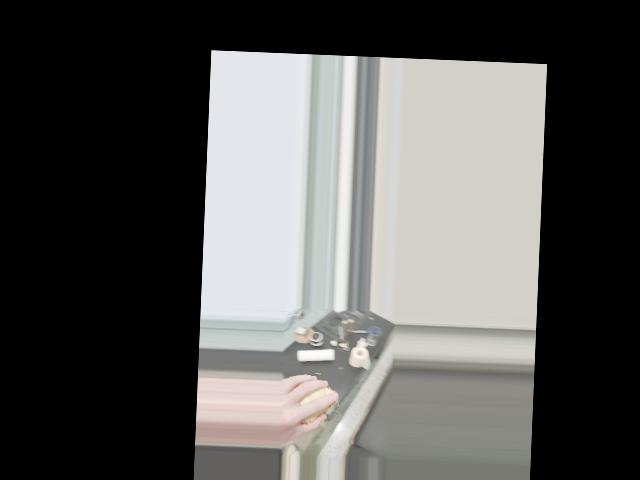onion: (291, 382, 337, 426)
